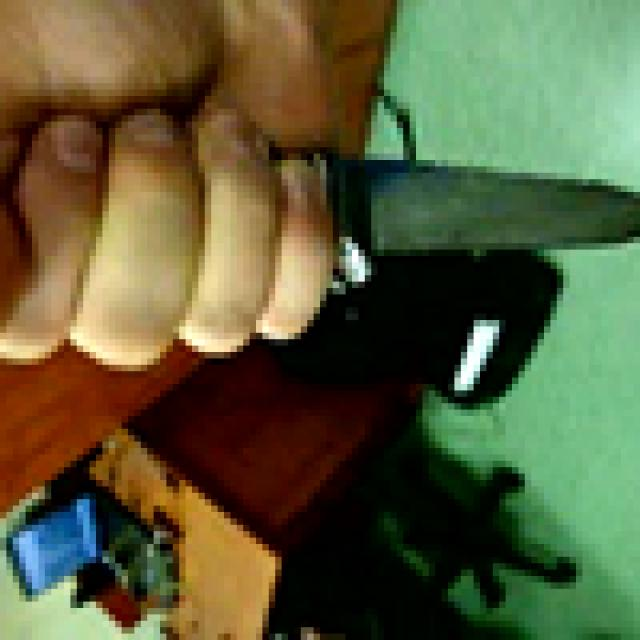Weapons: (303, 140, 634, 261)
